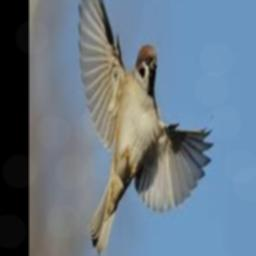Sparrow: (79, 0, 214, 256)
